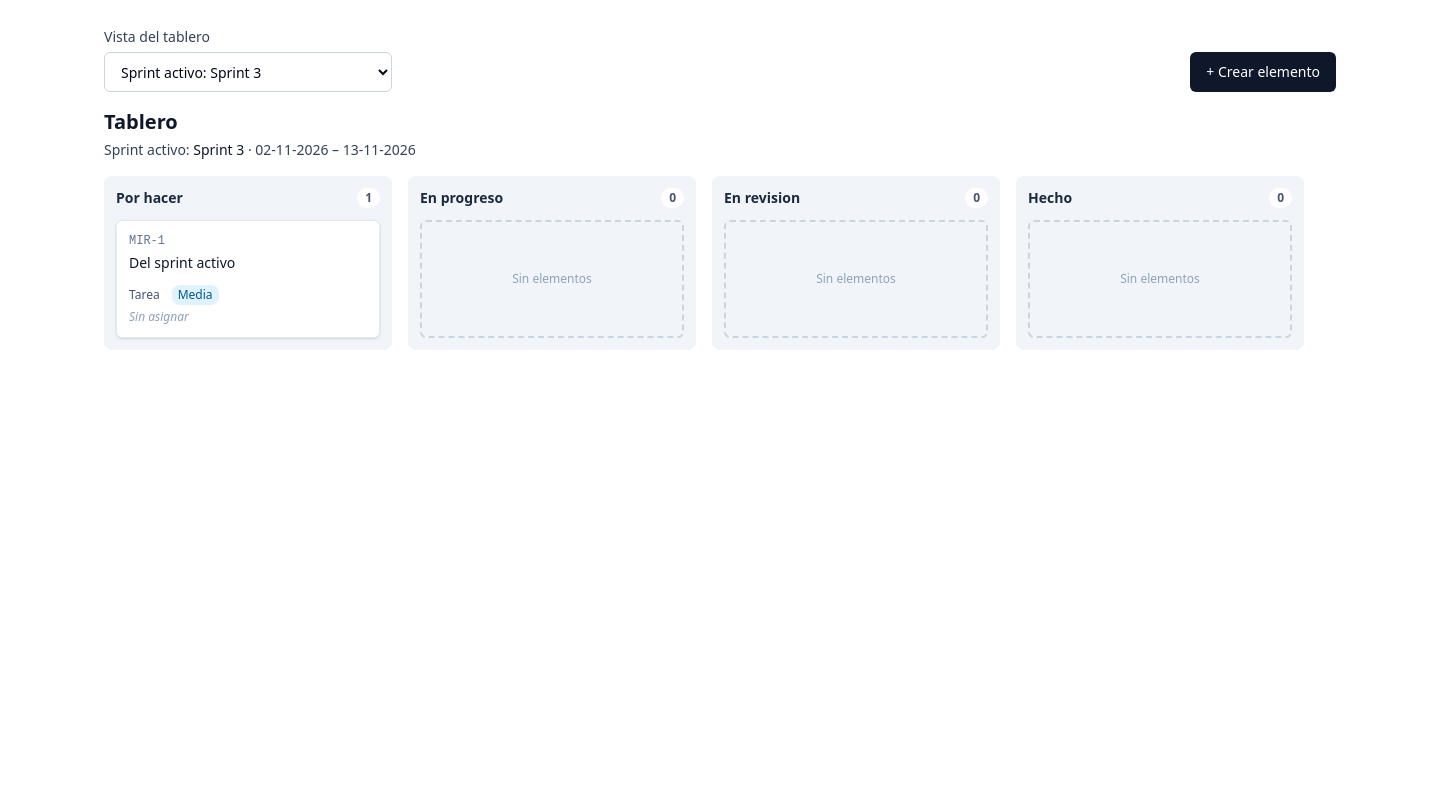
Test case: ProjectBoardPage con sprints (MIR-47) › al crear en la vista del sprint avisa que el elemento nace sin sprint
The image size is (1440, 810).
Check: the link "Del sprint activo" is shown, box [129,253,235,272]
Click the button "+ Crear elemento" at coordinates (1263, 72), box [1190,52,1336,92]
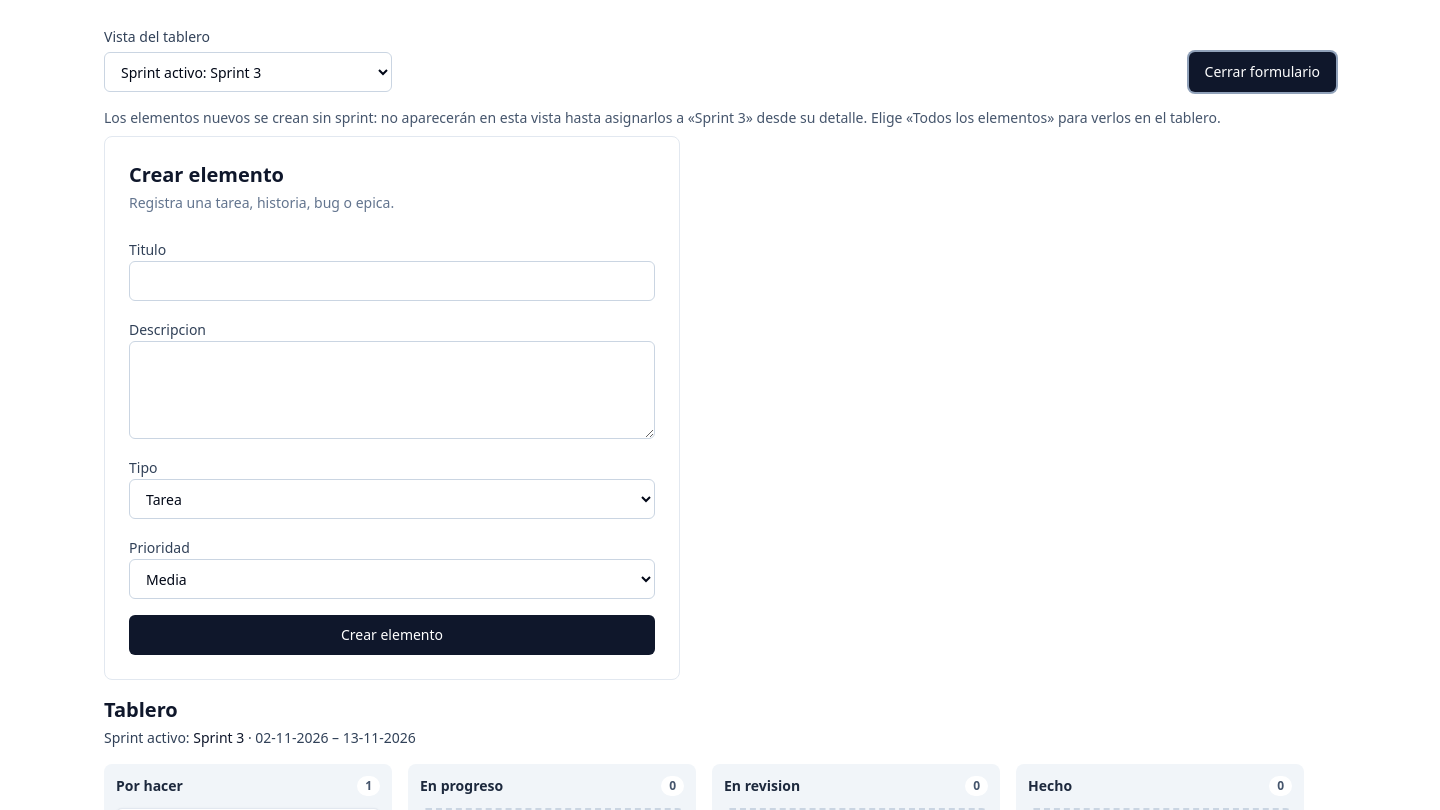
Check: the text "Los elementos nuevos se crean sin sprint" shows "asignarlos a «Sprint 3»", box [104,108,1336,128]
Select "Todos los elementos" in the dropdown labelled "Vista del tablero" at coordinates (248, 72), box [104,52,392,92]
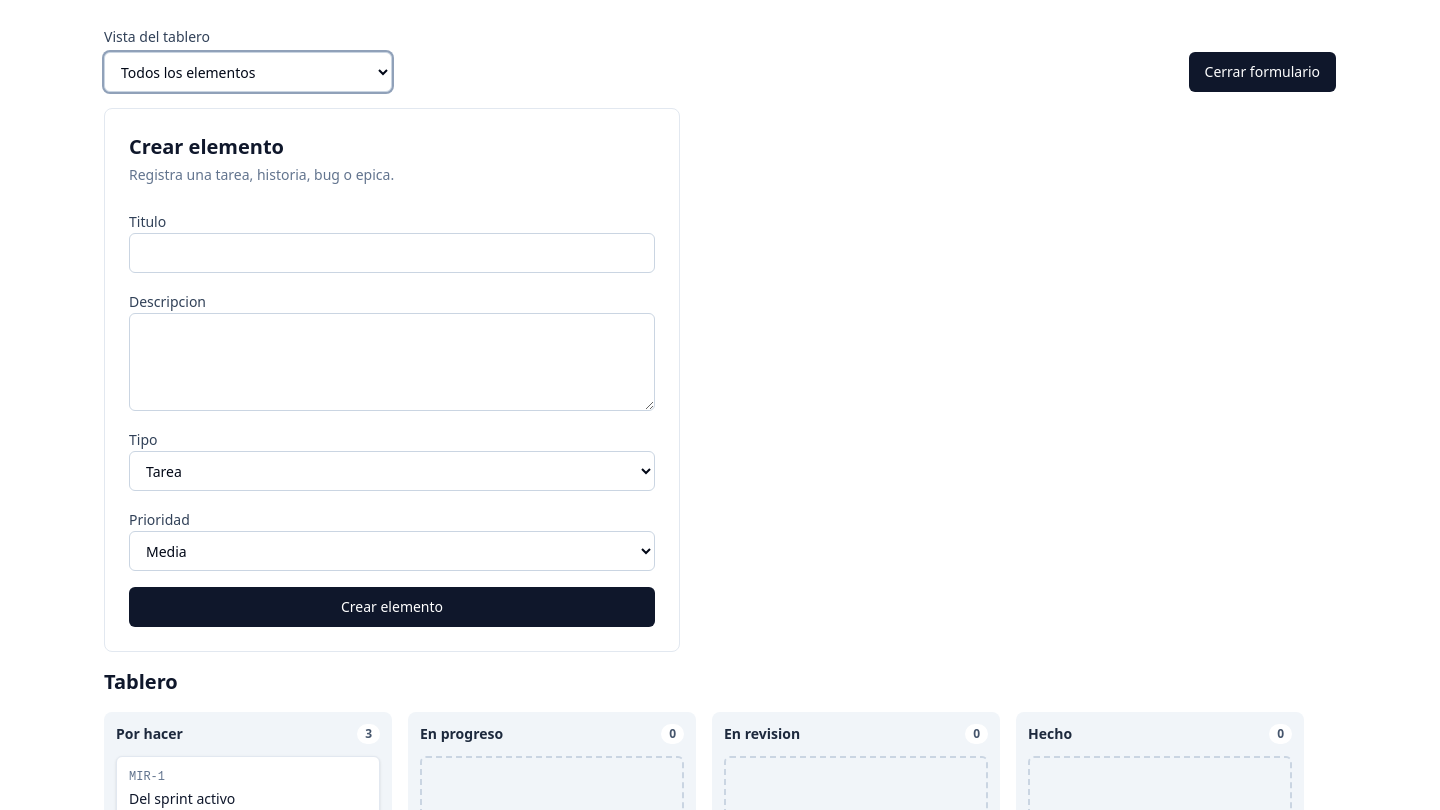
Check: the text "Los elementos nuevos se crean sin sprint" is gone
